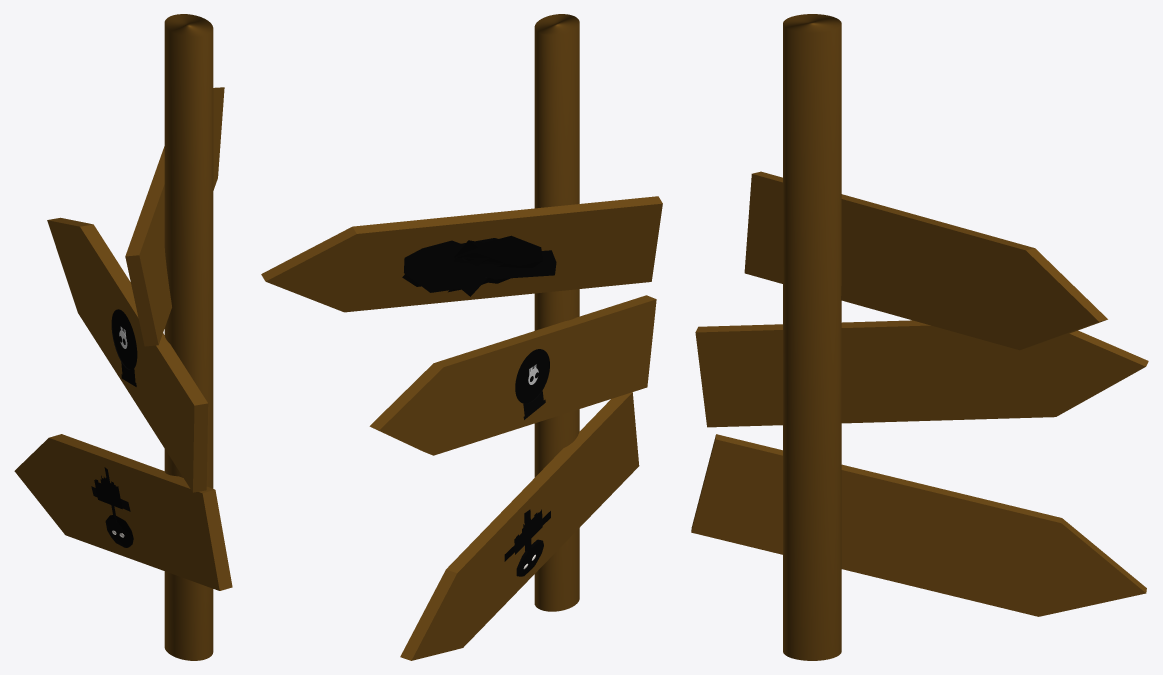
The model's file is ukazateltroynoy1111.fbx.
3 views of the same model, side by side, from view 1: azimuth 30°, elevation 25°; view 2: azimuth 150°, elevation 25°; view 3: azimuth 270°, elevation 25° (orthographic). The views are drawn at different scales.
Visible parts, largest first — view 1: Cylinder, Cube.001, Cube.002, Cube.003, Sphere, Plane.001; view 2: Cube.003, Cube.002, Cube.001, Cylinder, Sphere.001, Plane.001, Sphere; view 3: Cylinder, Cube.001, Cube.002, Cube.003.
Part boxes in pixels (x1=…): Cylinder: x1=164, y1=14, x2=213, y2=660; Cube.001: x1=14, y1=434, x2=232, y2=590; Cube.002: x1=47, y1=217, x2=208, y2=492; Cube.003: x1=125, y1=87, x2=224, y2=346; Sphere: x1=91, y1=467, x2=133, y2=547; Plane.001: x1=111, y1=309, x2=137, y2=386; Cube.003: x1=261, y1=196, x2=662, y2=312; Cube.002: x1=369, y1=295, x2=656, y2=455; Cube.001: x1=400, y1=392, x2=639, y2=660; Cylinder: x1=534, y1=14, x2=579, y2=611; Sphere.001: x1=402, y1=235, x2=556, y2=296; Plane.001: x1=515, y1=349, x2=549, y2=419; Sphere: x1=504, y1=509, x2=550, y2=576; Cylinder: x1=783, y1=14, x2=841, y2=660; Cube.001: x1=691, y1=434, x2=1146, y2=616; Cube.002: x1=695, y1=320, x2=1148, y2=427; Cube.003: x1=744, y1=171, x2=1107, y2=350.
Bounding box in the file's own units: 143 × 320 × 211.
